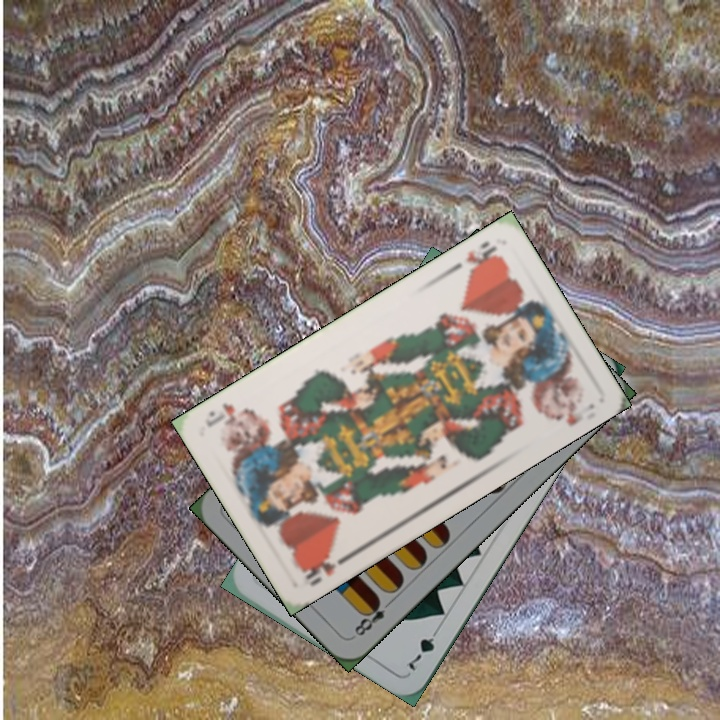E8: (350, 594, 396, 639)
G7: (404, 622, 443, 673)
HO: (446, 237, 505, 278), (298, 549, 354, 589)
